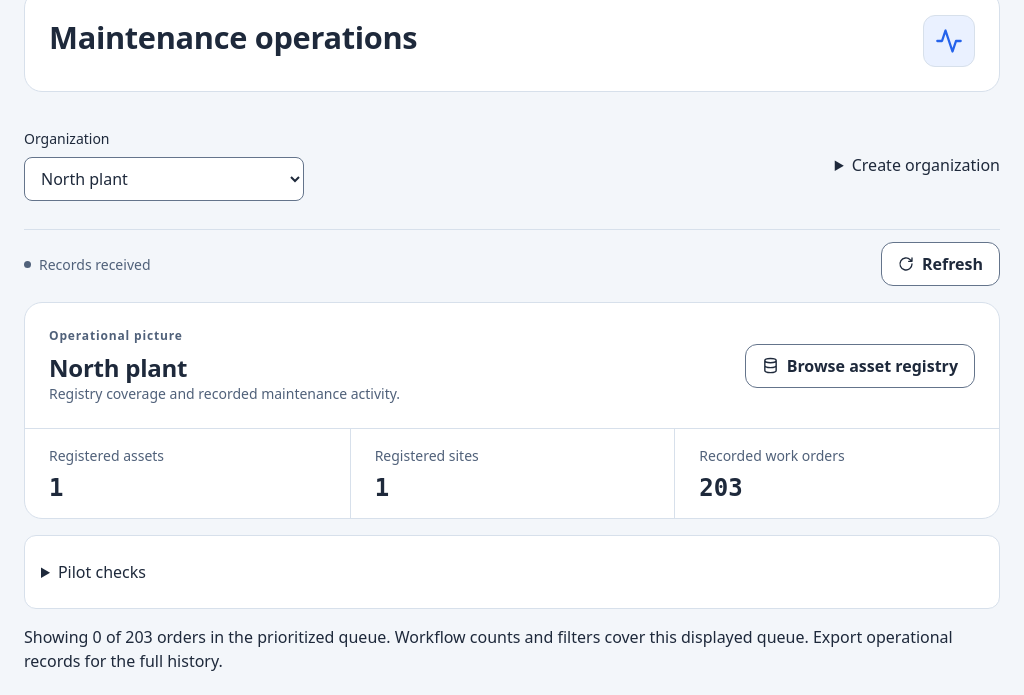
it: maintenance operations › discloses a partial asset history even when no linked order is displayed
The width and height of the screenshot is (1024, 695).
Click the button "Browse asset registry" at point(860, 366), box [745,344,975,388]
(page scrolled)
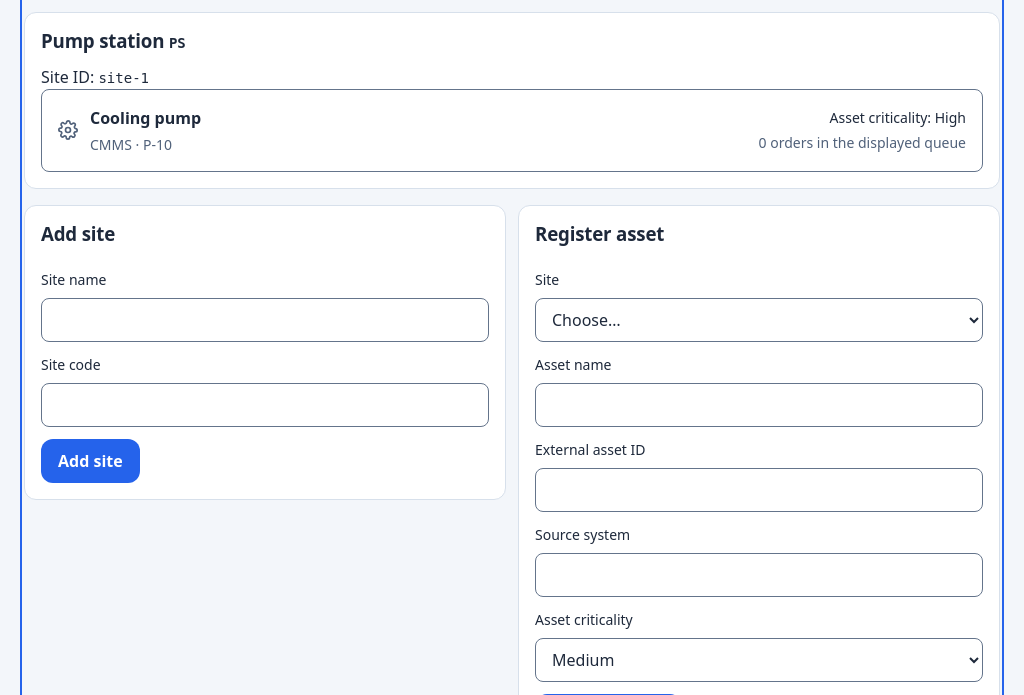
Click the button with aria-label "Inspect asset: Cooling pump" at point(146, 118), box [41,89,983,172]
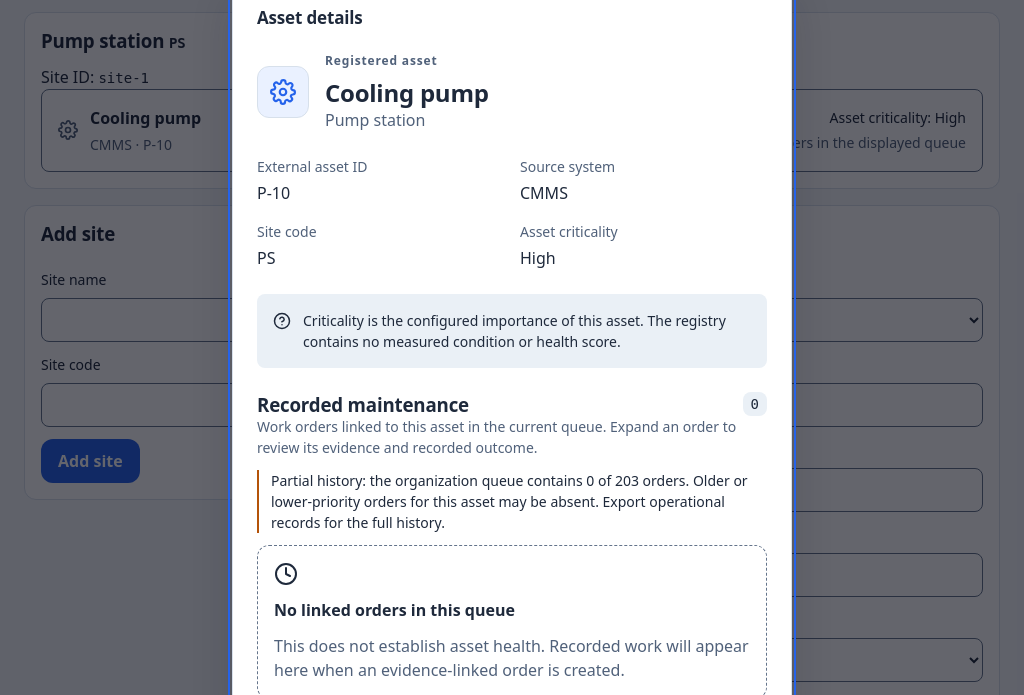
Check: the dialog shows "Partial history: the organization queue contains 0 of 203 orders", box [271,471,748,532]
Check: the dialog shows "No linked orders in this queue", box [274,599,515,621]
